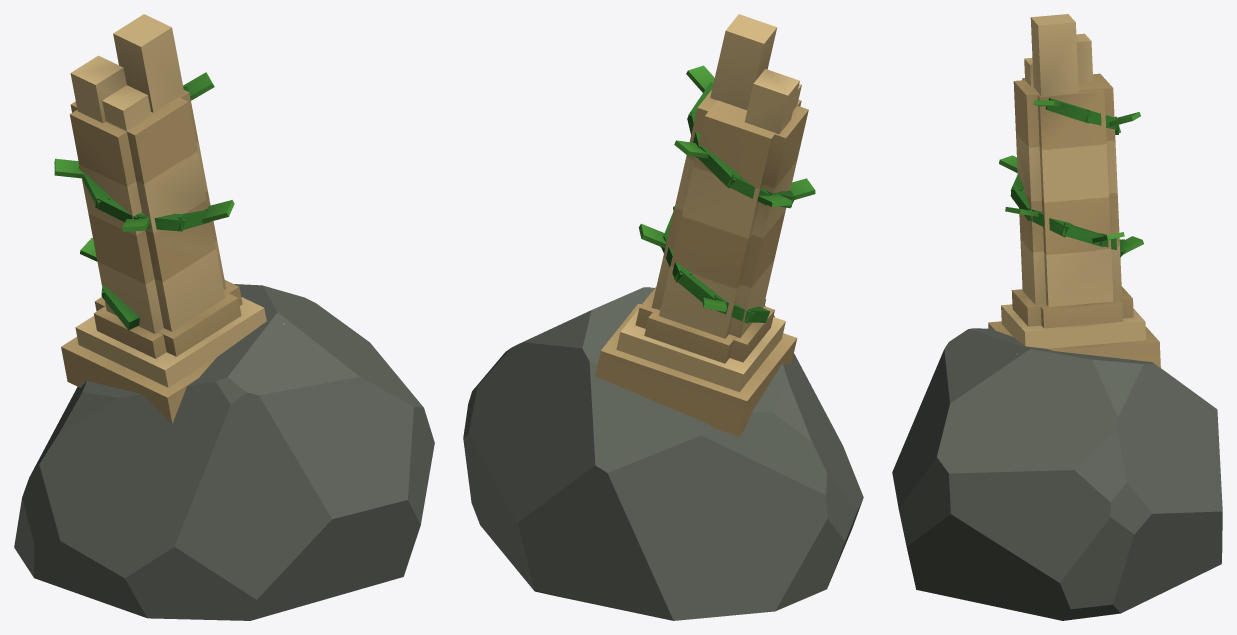
The model's file is PillarBoulder.fbx.
The picture shows the model from 3 angles, left to right: view 1: azimuth 30°, elevation 25°; view 2: azimuth 150°, elevation 25°; view 3: azimuth 270°, elevation 25°; orthographic projection. The views are drawn at different scales.
Visible parts, largest first — view 1: PillarBoulder, PillarBoulder_Pillar; view 2: PillarBoulder, PillarBoulder_Pillar; view 3: PillarBoulder, PillarBoulder_Pillar.
Boxes of the visible parts, x1,y1,x2,y2 form: PillarBoulder: [14, 284, 434, 620]; PillarBoulder_Pillar: [54, 14, 285, 423]; PillarBoulder: [463, 287, 863, 620]; PillarBoulder_Pillar: [595, 14, 815, 436]; PillarBoulder: [892, 328, 1222, 620]; PillarBoulder_Pillar: [988, 14, 1160, 367].
Bounding box in the file's own units: 17.24 × 23.97 × 14.61.
